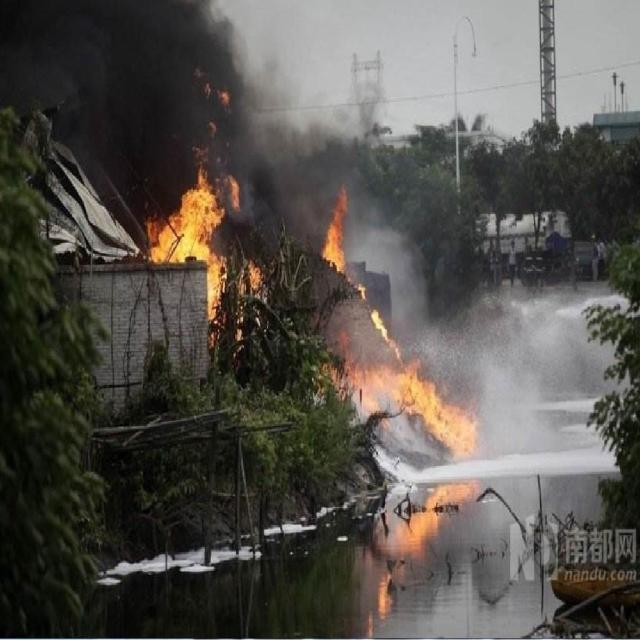Fire: (325, 282, 481, 461), (146, 168, 268, 348), (320, 180, 350, 272)
Smoke: (1, 1, 437, 346), (477, 357, 552, 534), (377, 397, 443, 464)
